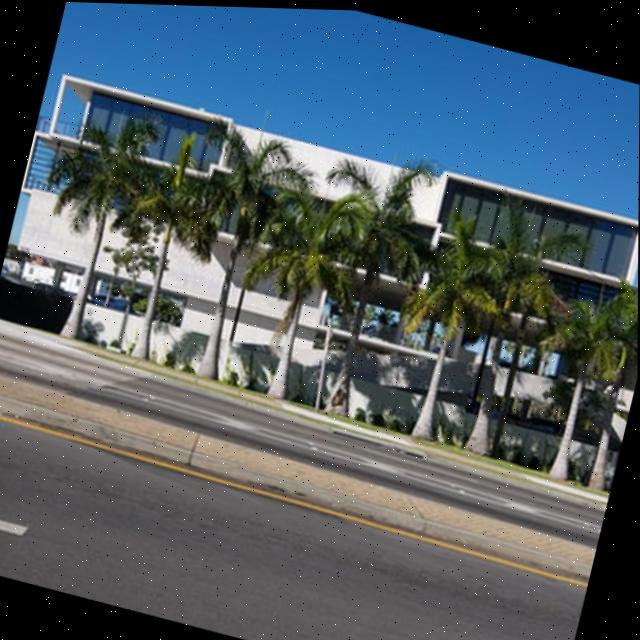building: (0, 62, 640, 496)
